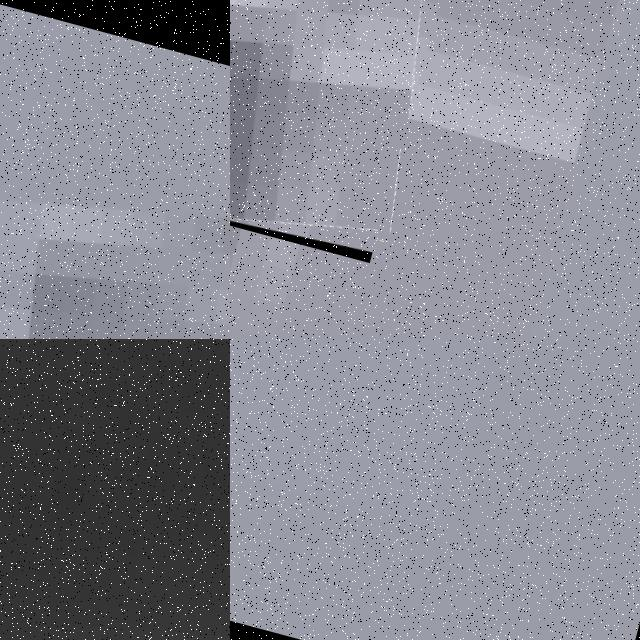drone: (0, 0, 230, 339), (0, 339, 230, 640), (230, 0, 463, 263)
